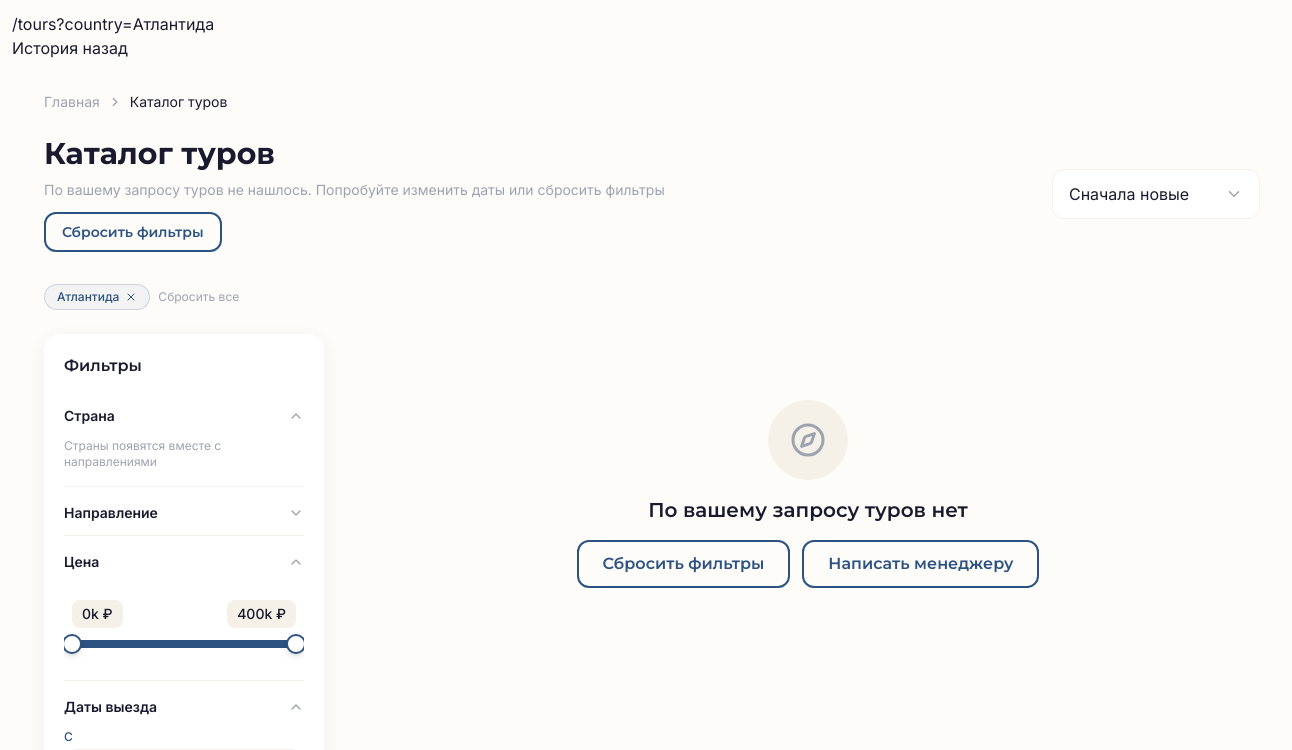
it: TourCatalogPage › offers reset and a manager contact when the filtered catalog is empty
The image size is (1292, 750).
Expected: the message shows "По вашему запросу туров нет", [648, 498, 968, 522]
Click the button "Сбросить фильтры" next to "Написать менеджеру": (684,564) [577, 540, 790, 588]
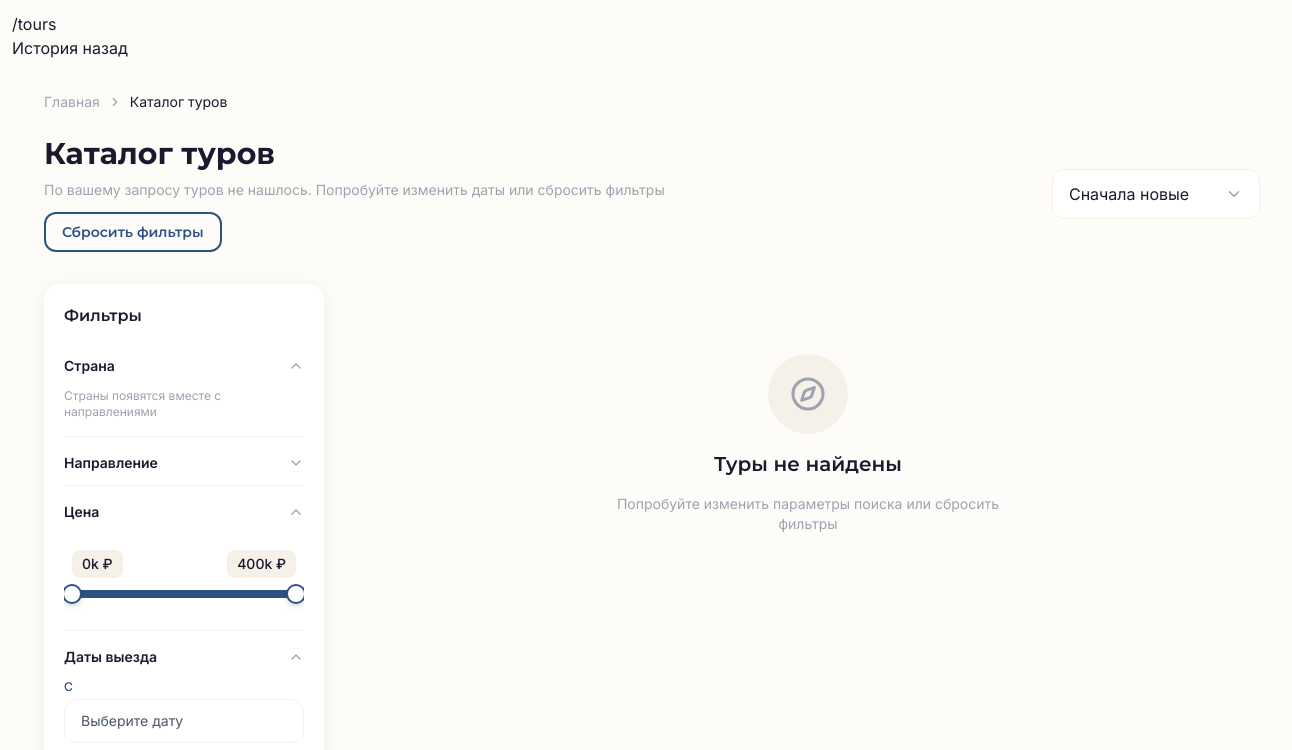
Expected: the text with test id "url" reads "/tours", [12, 14, 56, 34]
Expected: the heading "Туры не найдены" is shown, [714, 450, 902, 478]
